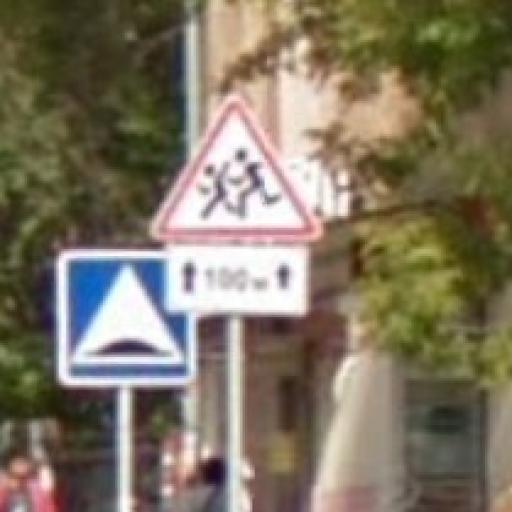traffic_sign: (148, 95, 322, 245), (55, 250, 199, 388)
